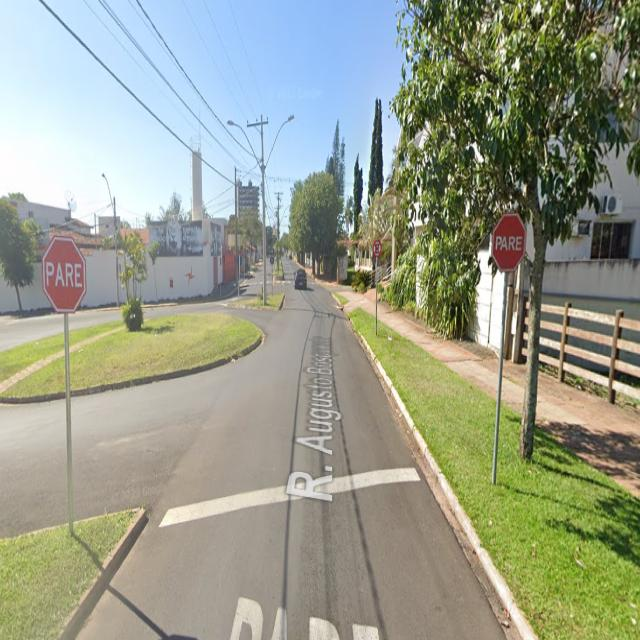stop: (34, 224, 94, 324), (481, 204, 530, 289)
